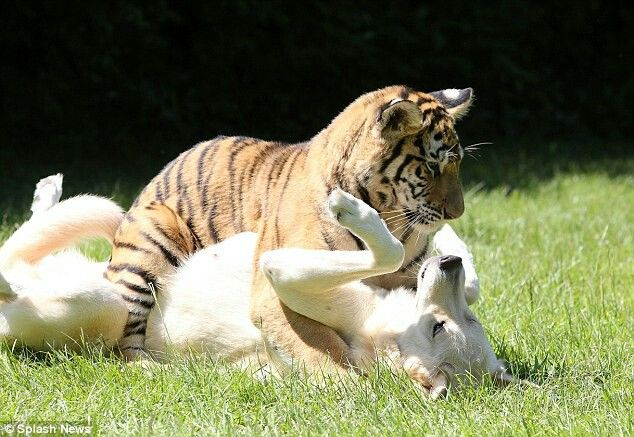dog: (1, 175, 512, 404)
tiger: (103, 85, 478, 366)
